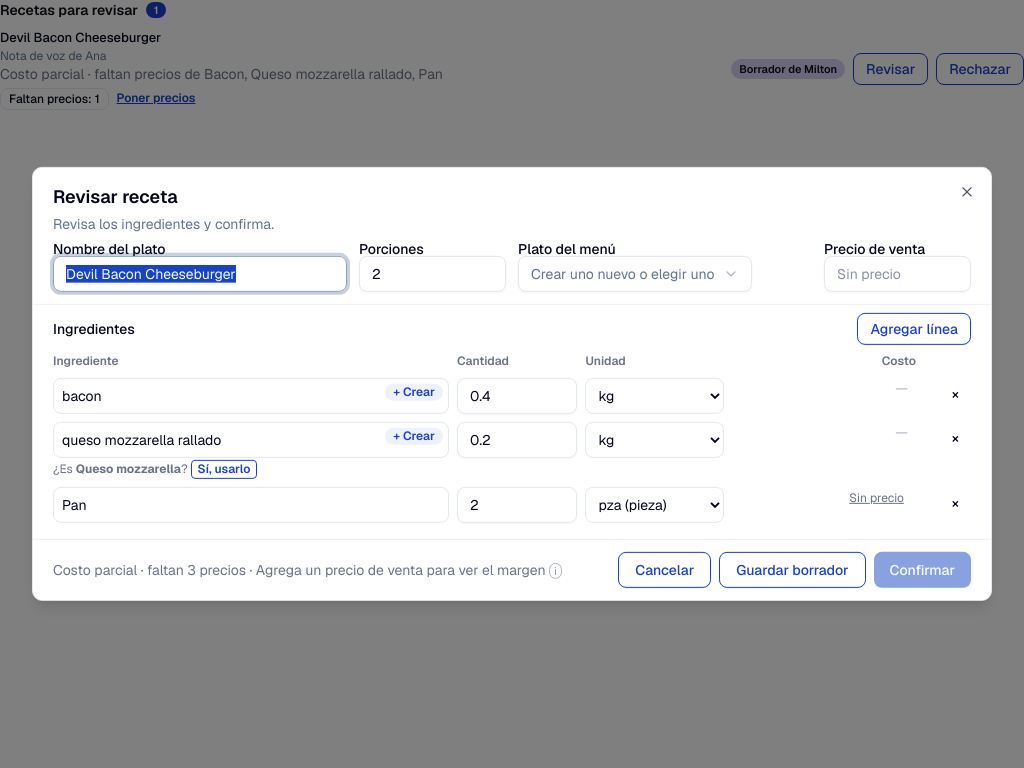
Test: Guardar borrador › closing with unsaved changes asks «¿Guardar cambios?»; «Salir sin guardar» leaves without saving
Replace the text in the number field named "Cantidad de la línea 1" with "9": (517, 396) [457, 378, 577, 414]
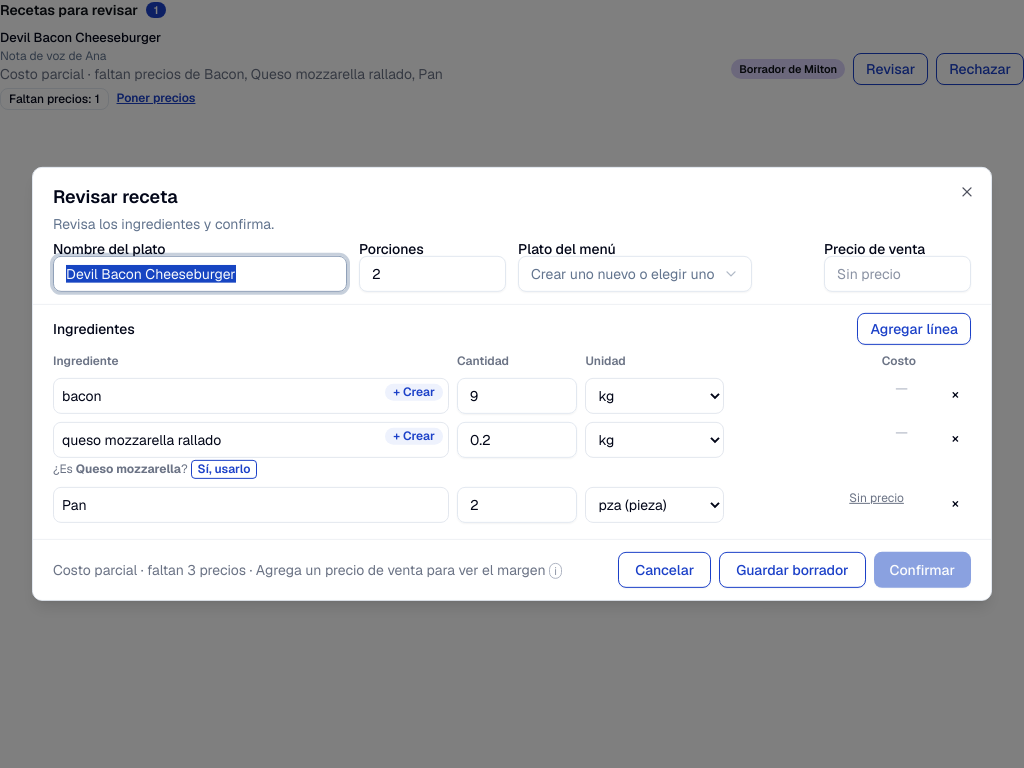
Press Escape in the dialog "Revisar receta", box [32, 167, 992, 601]
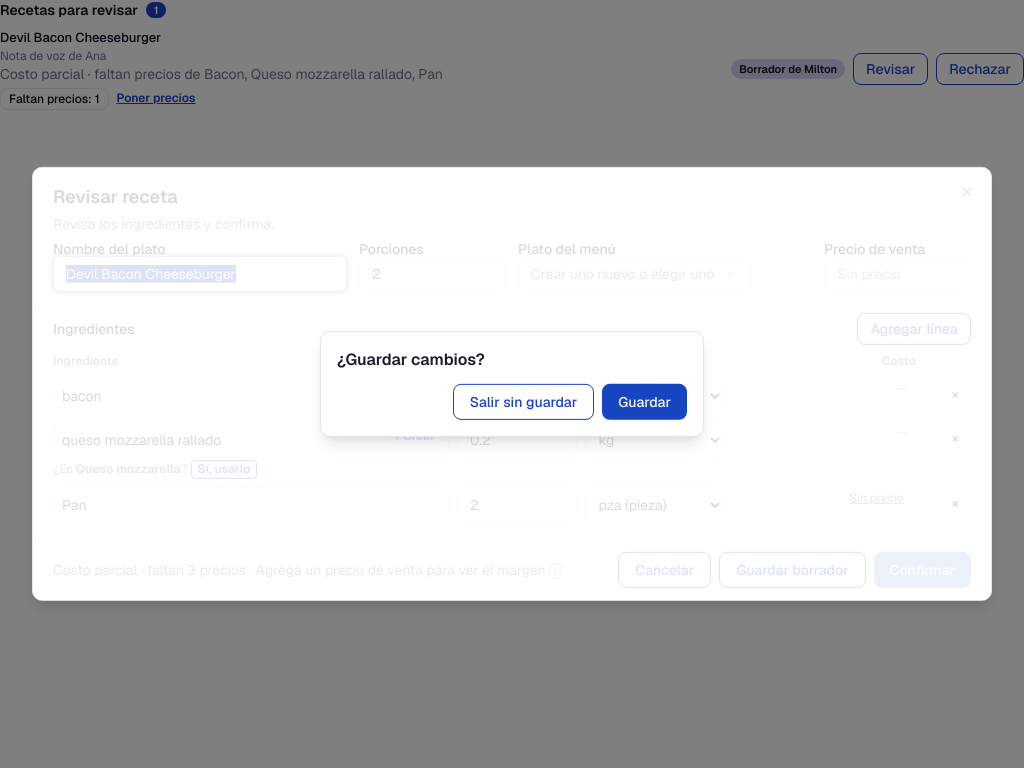
Check: the button "Salir sin guardar" is shown
Click the button "Salir sin guardar": (524, 402) [453, 384, 594, 420]
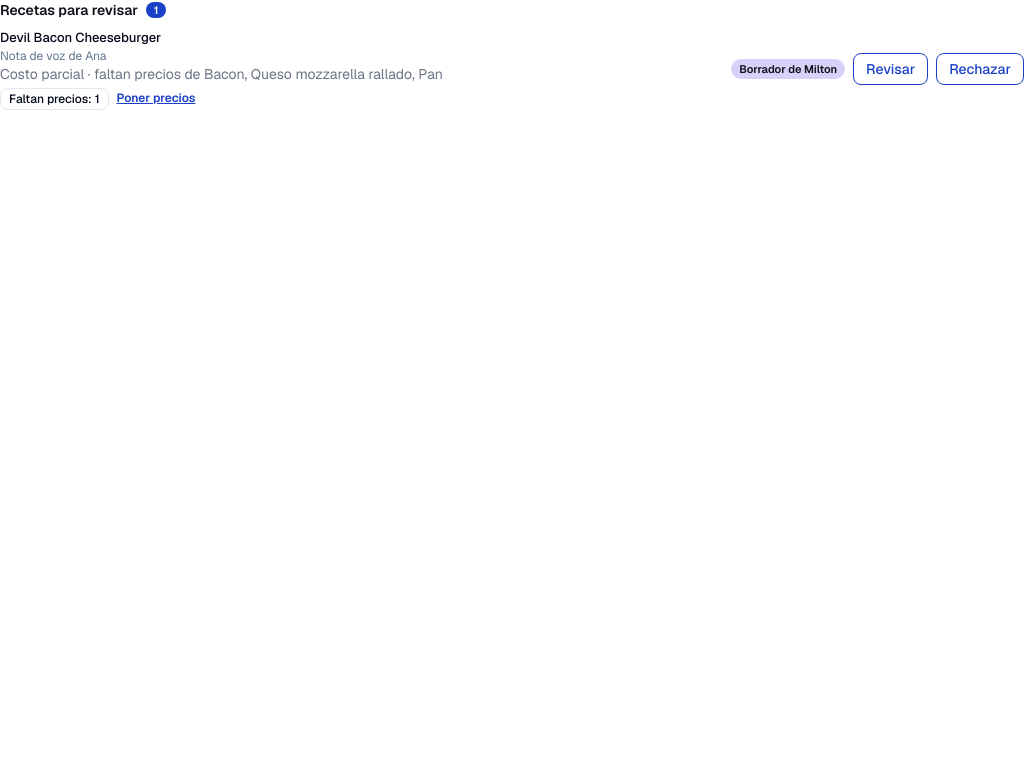
Check: the heading "Revisar receta" is gone
